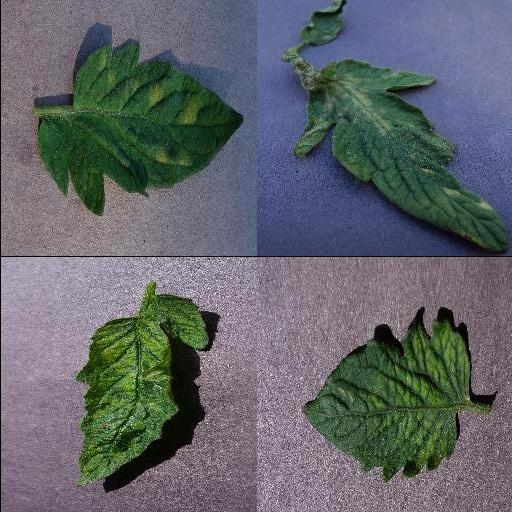Leaf Mold: (295, 60, 511, 252), (36, 41, 244, 217)
Mosaic Virus: (302, 318, 470, 482), (75, 295, 209, 491)
